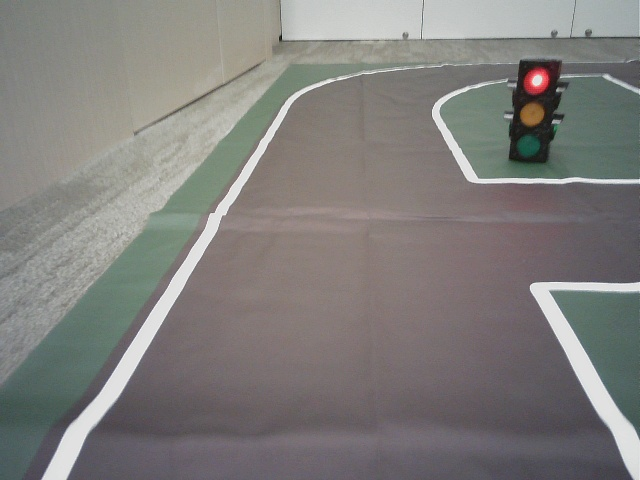red: (515, 65, 547, 154)
